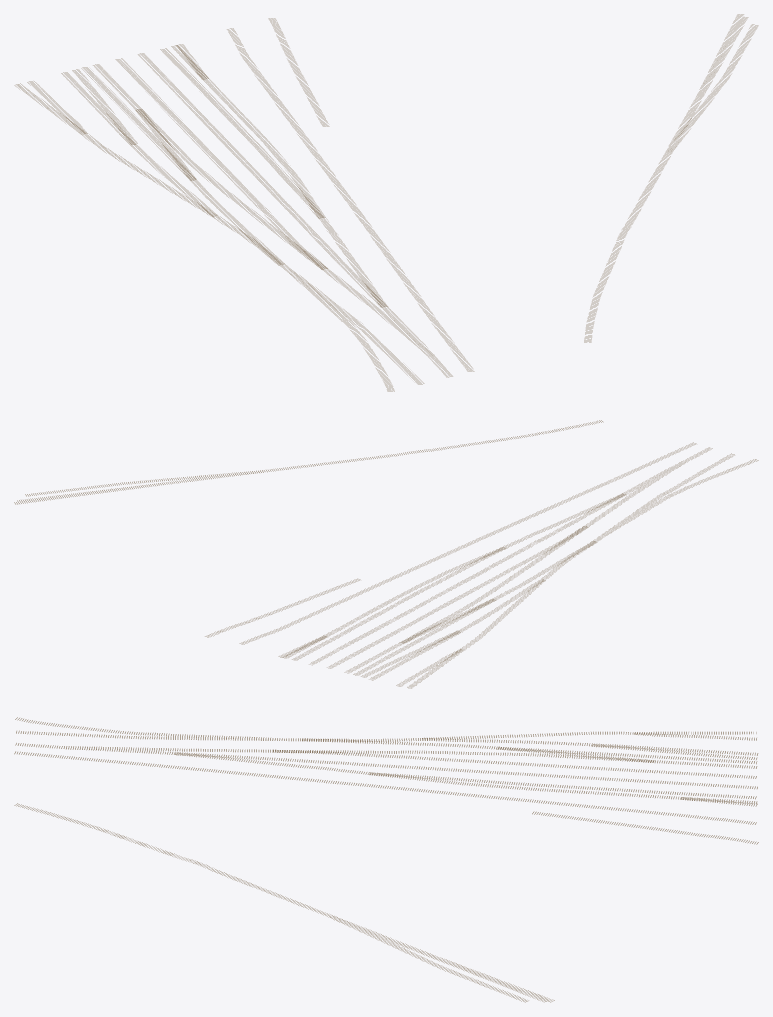
File: c_1630_17830_rail_sleeper.glb
3 renders of one model, top to bottom at view 1: azimuth 30°, elevation 25°; view 2: azimuth 150°, elevation 25°; view 3: azimuth 270°, elevation 25°, orthographic. The views are drawn at different scales.
Visible parts, largest first — view 1: geometry_0; view 2: geometry_0; view 3: geometry_0.
Part boxes in pixels (x1,y1,x2,y2): geometry_0: (14, 14, 758, 391); geometry_0: (14, 420, 758, 688); geometry_0: (14, 717, 758, 1002).
Bounding box in the file's own units: 235 × 1.82 × 257.
